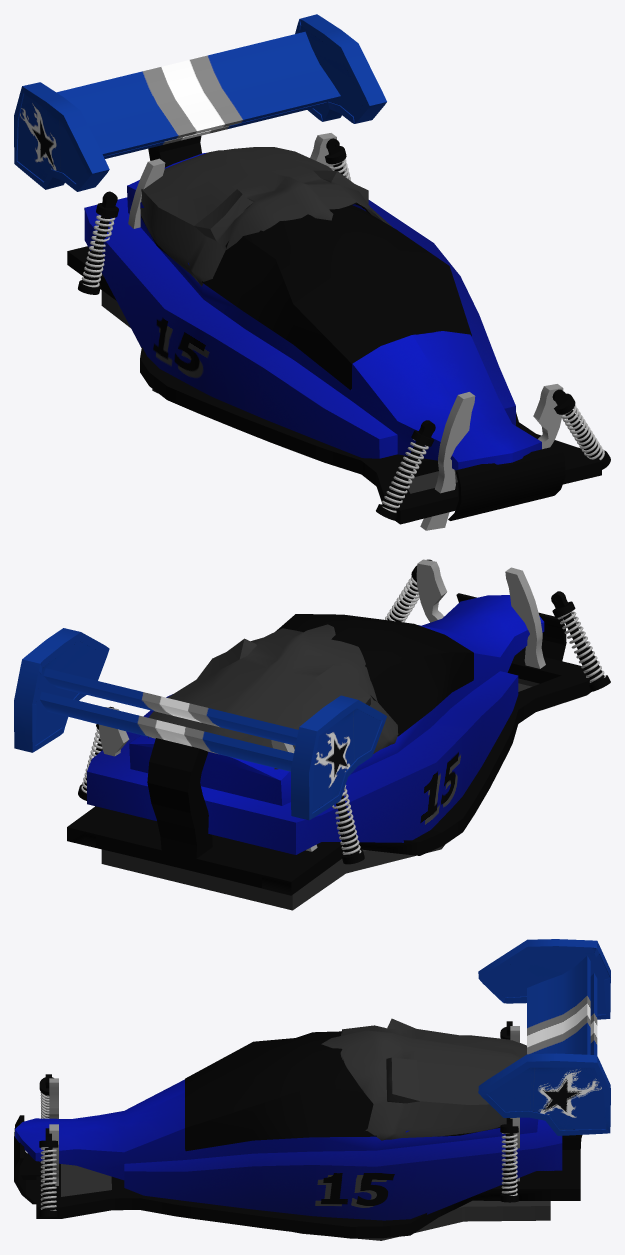
Rendered from CarroBlueTop2.dae.
3 renders of one model, top to bottom at view 1: azimuth 30°, elevation 25°; view 2: azimuth 150°, elevation 25°; view 3: azimuth 270°, elevation 25°, orthographic. The views are drawn at different scales.
Parts seen in each view (by area): view 1: Superficie_1, Aleron, Superficie_2, Carroceria, Aleron_izquierdo1, Defensa, Aleron_derecho, Aleron_izquierdo, RS_1_6, RS_2_6, Resorte_1, Resorte_3 (+3 smaller); view 2: Superficie_1, Carroceria, Superficie_2, Aleron_izquierdo1, Aleron_derecho, Tapa, Aleron, RS_1_6, RS_2_6, Aleron_izquierdo, Defensa, Resorte_1 (+3 smaller); view 3: Superficie_1, Superficie_2, Carroceria, Aleron_izquierdo, Aleron_derecho, Aleron_izquierdo1, Aleron, Tapa, Defensa, Resorte_4, Resorte_2.
Boxes of the visible parts, bbox=[...] form: Superficie_1: bbox=[84, 152, 541, 470]; Aleron: bbox=[56, 31, 340, 156]; Superficie_2: bbox=[140, 147, 391, 286]; Carroceria: bbox=[67, 102, 601, 524]; Aleron_izquierdo1: bbox=[14, 82, 109, 191]; Defensa: bbox=[448, 445, 565, 520]; Aleron_derecho: bbox=[296, 14, 386, 123]; Aleron_izquierdo: bbox=[295, 17, 386, 123]; RS_1_6: bbox=[420, 392, 475, 530]; RS_2_6: bbox=[533, 384, 563, 449]; Resorte_1: bbox=[381, 439, 428, 512]; Resorte_3: bbox=[81, 215, 115, 287]; Superficie_1: bbox=[87, 595, 544, 854]; Carroceria: bbox=[39, 652, 591, 895]; Superficie_2: bbox=[148, 624, 398, 769]; Aleron_izquierdo1: bbox=[291, 695, 386, 820]; Aleron_derecho: bbox=[14, 628, 109, 752]; Tapa: bbox=[101, 678, 539, 910]; Aleron: bbox=[43, 668, 298, 745]; RS_1_6: bbox=[505, 567, 554, 706]; RS_2_6: bbox=[416, 559, 447, 622]; Aleron_izquierdo: bbox=[14, 628, 106, 752]; Defensa: bbox=[456, 593, 566, 660]; Resorte_1: bbox=[557, 611, 605, 682]; Superficie_1: bbox=[15, 1031, 562, 1220]; Superficie_2: bbox=[321, 1018, 526, 1140]; Carroceria: bbox=[36, 973, 597, 1238]; Aleron_izquierdo: bbox=[478, 1053, 610, 1135]; Aleron_derecho: bbox=[478, 1054, 610, 1135]; Aleron_izquierdo1: bbox=[478, 939, 610, 1019]; Aleron: bbox=[527, 955, 590, 1054]; Tapa: bbox=[61, 1164, 550, 1240]; Defensa: bbox=[14, 1115, 40, 1204]; Resorte_4: bbox=[501, 1133, 517, 1195]; Resorte_2: bbox=[40, 1147, 56, 1210].
Size of the model in its own units: 0.5881 by 1.21 by 0.4878.
Materials: 10 (8 with a texture image).
